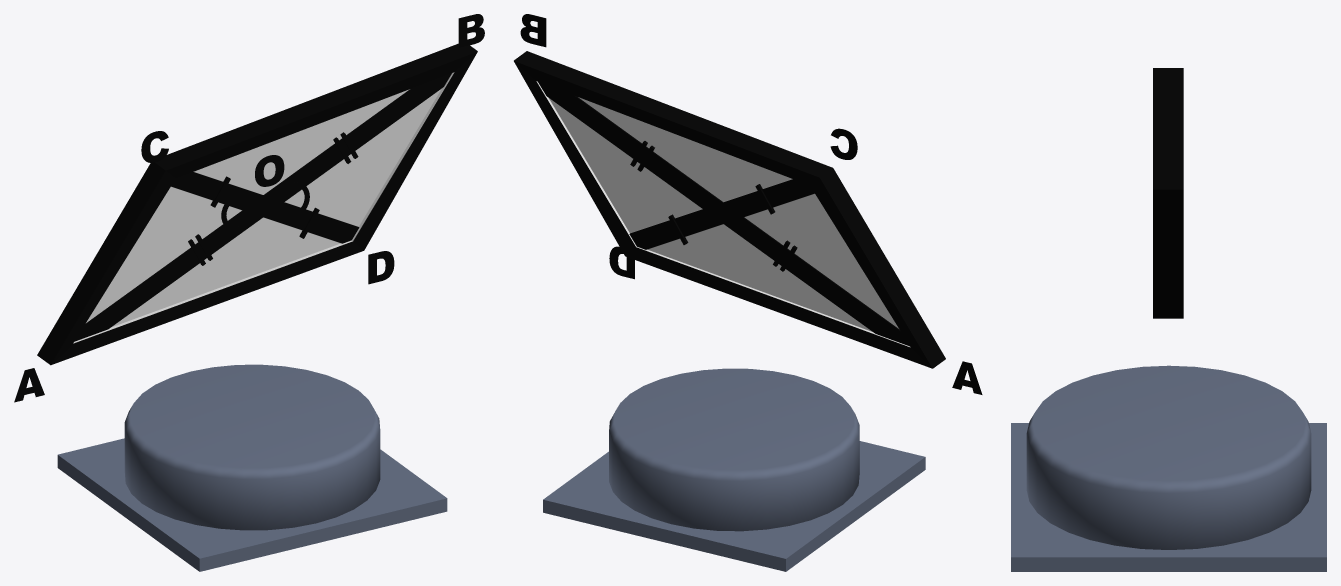
3 renders of one model, left to right at view 1: azimuth 30°, elevation 25°; view 2: azimuth 150°, elevation 25°; view 3: azimuth 270°, elevation 25°, orthographic. The views are drawn at different scales.
Visible parts, largest first — view 1: Cube, Cube.001, Cube.003, Cube.002, Text.002, Text.003, Text; view 2: Cube, Cube.001, Cube.003, Cube.002, Text.002; view 3: Cube, Cube.001.
Boxes of the visible parts, x1,y1,x2,y2 form: Cube: [57, 364, 447, 571]; Cube.001: [37, 43, 477, 365]; Cube.003: [74, 73, 451, 341]; Cube.002: [171, 172, 359, 243]; Text.002: [458, 14, 484, 47]; Text.003: [368, 251, 394, 284]; Text: [255, 155, 284, 186]; Cube: [543, 368, 925, 571]; Cube.001: [514, 51, 945, 368]; Cube.003: [538, 82, 909, 346]; Cube.002: [629, 179, 814, 249]; Text.002: [520, 14, 546, 47]; Cube: [1011, 365, 1326, 571]; Cube.001: [1153, 68, 1183, 318].
Size of the model in its own units: 17.37 by 15.1 by 9.09.
